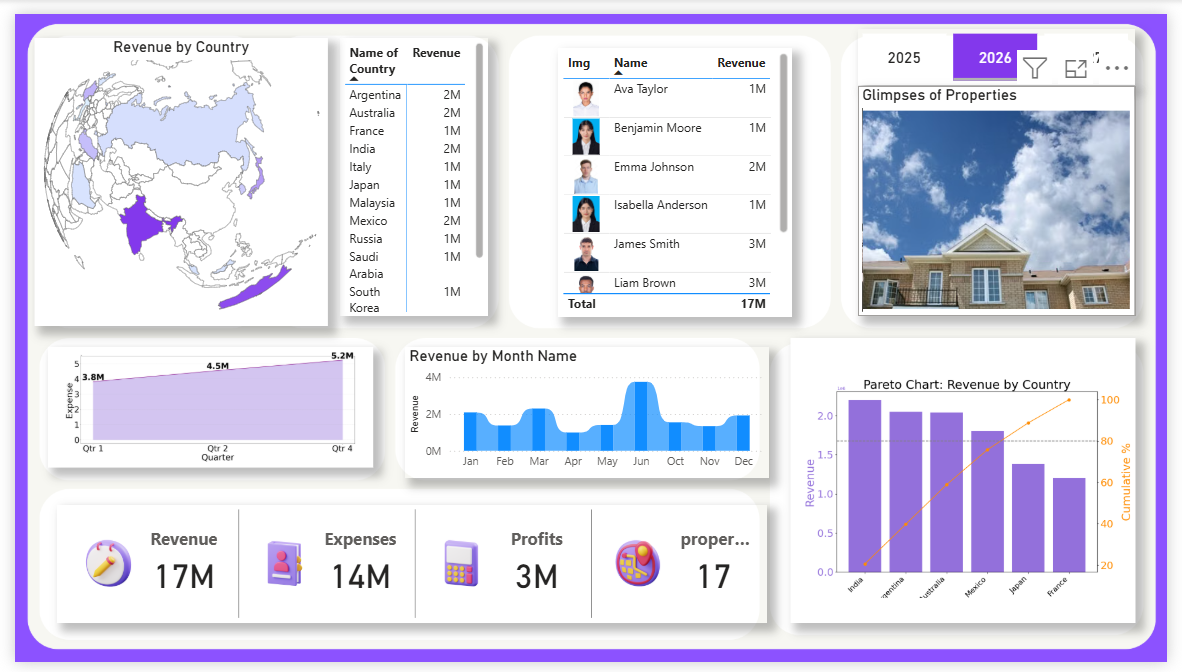

The dashboard page shown, as its layout file describes it:
{"tool":"powerbi","page":{"name":"Property Dashboard","canvas":[1280,720],"ordinal":0},"visuals":[{"type":"advancedSlicerVisual","fields":{"Values":["Calendar.Year"]},"box":[936.9,16.9,307.5,62.9],"z":0},{"type":"cardVisual","fields":{"Data":["Measure Table.Revenue","Measure Table.Expenses","Measure Table.Profits","Measure Table.Sold Properties"]},"box":[46.1,545.8,789.1,131],"z":1000},{"type":"shapeMap","title":"Revenue by Country","fields":{"Category":["Property details.Name of Country"],"Value":["Measure Table.Revenue"]},"box":[21.6,26,326.1,320.3],"z":2000},{"type":"pivotTable","fields":{"Rows":["Property details.Name of Country"],"Values":["Measure Table.Revenue"]},"box":[361.2,26.2,163.8,308.8],"z":3000},{"type":"ribbonChart","fields":{"Category":["Calendar.Month Name"],"Y":["Measure Table.Revenue"]},"box":[432.5,370,403.8,145],"z":4000},{"type":"tableEx","fields":{"Values":["Client Details.Img","Client Details.Name","Measure Table.Revenue"]},"box":[602.8,37.5,260.3,297.8],"z":5000},{"type":"ImageCarouselByMAQSoftware1448688110701","title":"Glimpses of Properties","fields":{"ImageData":["Property details.Image"]},"box":[937.4,79.8,306.8,255.2],"z":6000},{"type":"pythonVisual","fields":{"Values":["Calendar.Quarter","Sum(Property details.Expense)"]},"box":[36.2,370,361.2,133.8],"z":7000},{"type":"pythonVisual","fields":{"Values":["Sum(Property details.Expense)","Property details.Name of Country","Measure Table.Revenue","Property details.Size of home","Property details.Price"]},"box":[862.1,360,383.2,316.7],"z":8000}]}

Visuals, with their boxes in screenshot pixels (x1, y1, x2, y2), scaled from the page's 1280x720 canvas onto the 1182x672 screenshot:
advancedSlicerVisual - Calendar.Year: bbox=[865, 16, 1149, 74]
cardVisual - Measure Table.Revenue x Measure Table.Expenses: bbox=[43, 509, 771, 632]
"Revenue by Country" shapeMap: bbox=[20, 24, 321, 323]
pivotTable - Property details.Name of Country x Measure Table.Revenue: bbox=[334, 24, 485, 313]
ribbonChart - Calendar.Month Name x Measure Table.Revenue: bbox=[399, 345, 772, 481]
tableEx - Client Details.Img x Client Details.Name: bbox=[557, 35, 797, 313]
"Glimpses of Properties" ImageCarouselByMAQSoftware1448688110701: bbox=[866, 74, 1149, 313]
pythonVisual - Calendar.Quarter x Sum(Property details.Expense): bbox=[33, 345, 367, 470]
pythonVisual - Sum(Property details.Expense) x Property details.Name of Country: bbox=[796, 336, 1150, 632]
